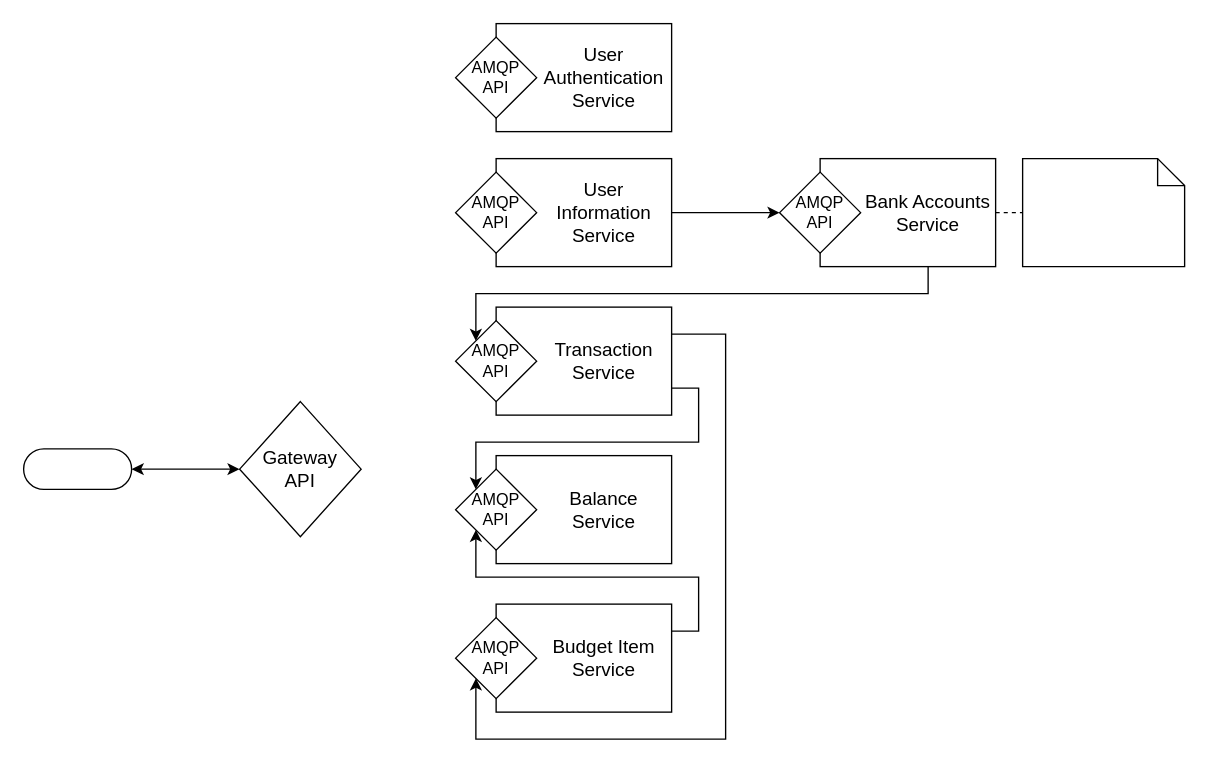
Some shapes in this 1208 by 774 pixel diagram are drawn without their labels. Each missing label, with the box of its shape:
Handles talking to Plaid & defines the Account Model: (1021, 157, 1185, 267)
Web client: (22, 448, 132, 489)
